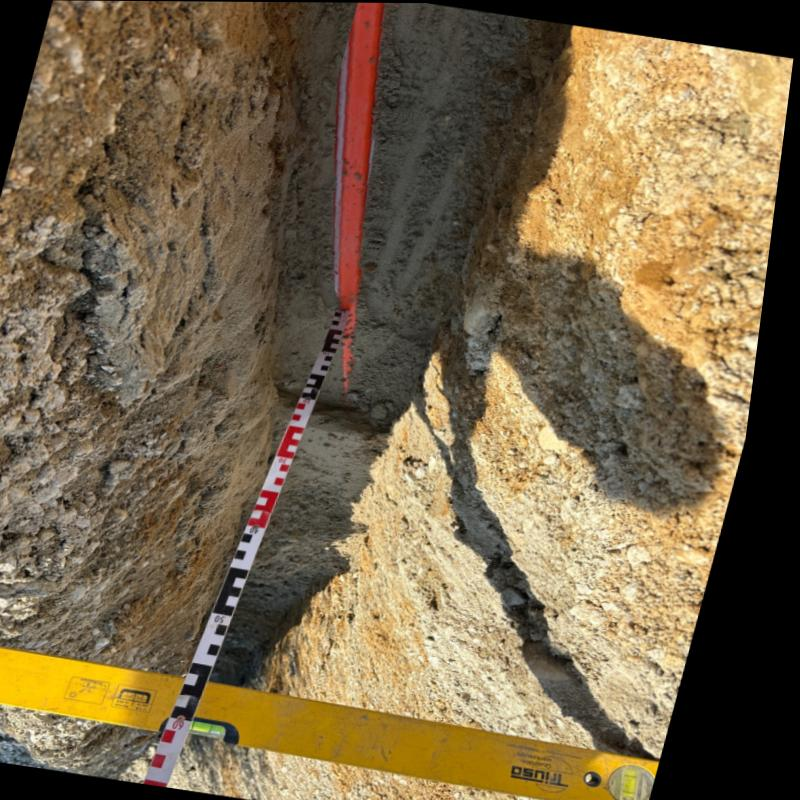Orang-Speednetrohrchen: (337, 2, 388, 353)
